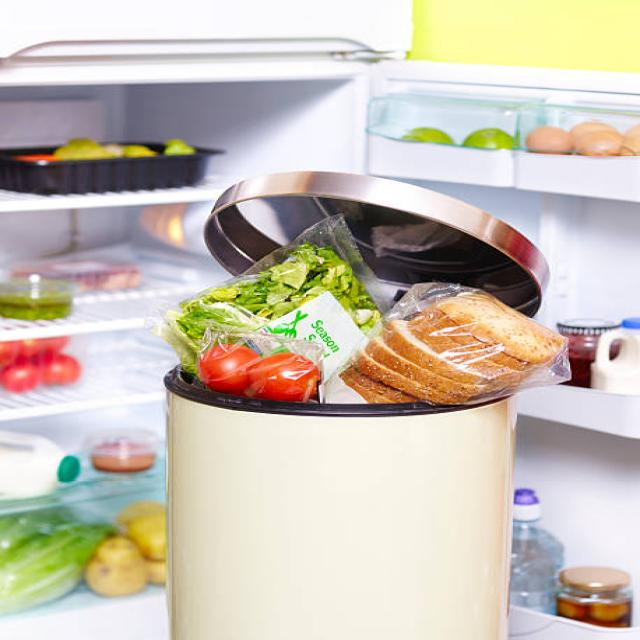trash: (170, 249, 534, 403)
